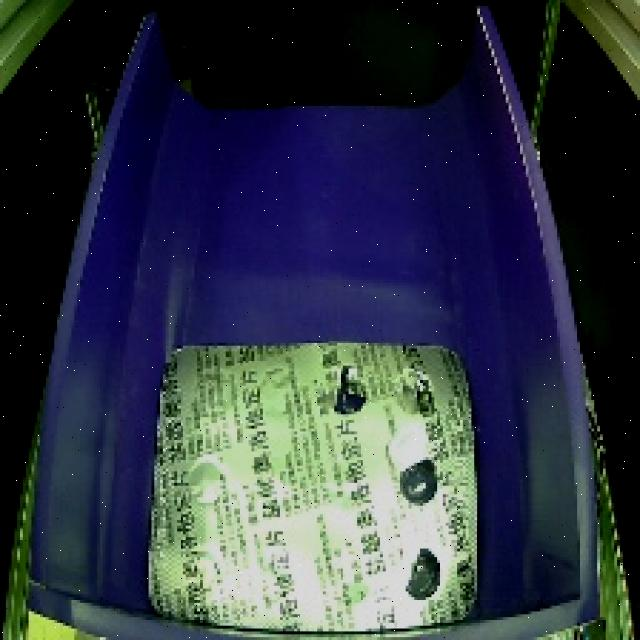med_plate: (128, 320, 490, 640)
